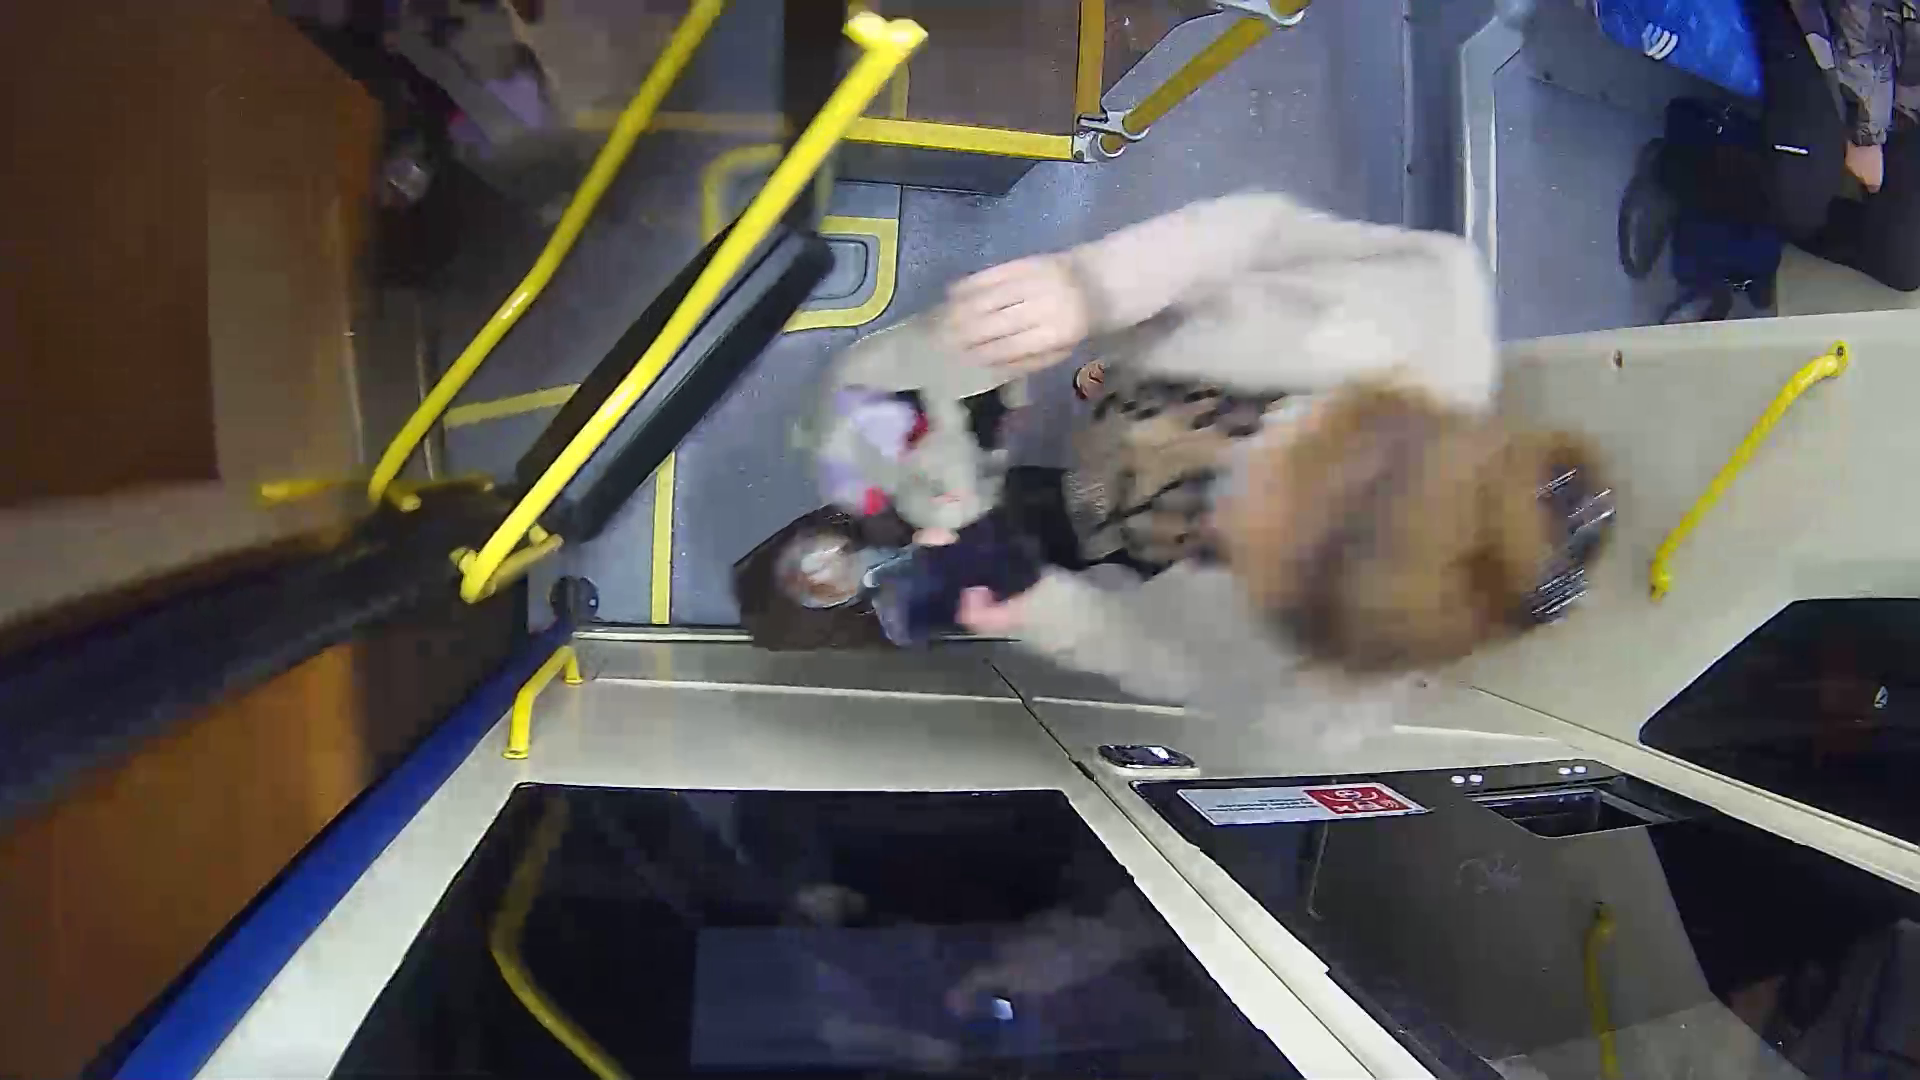person: (786, 188, 1645, 774)
